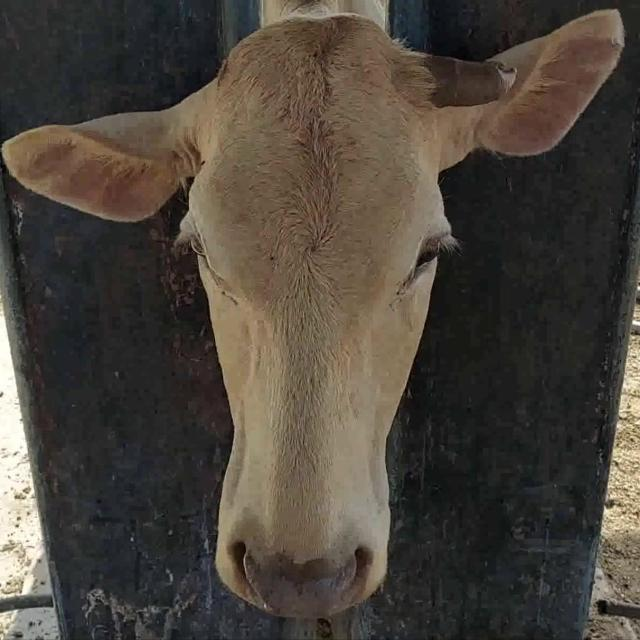cowFace: (183, 17, 449, 614)
